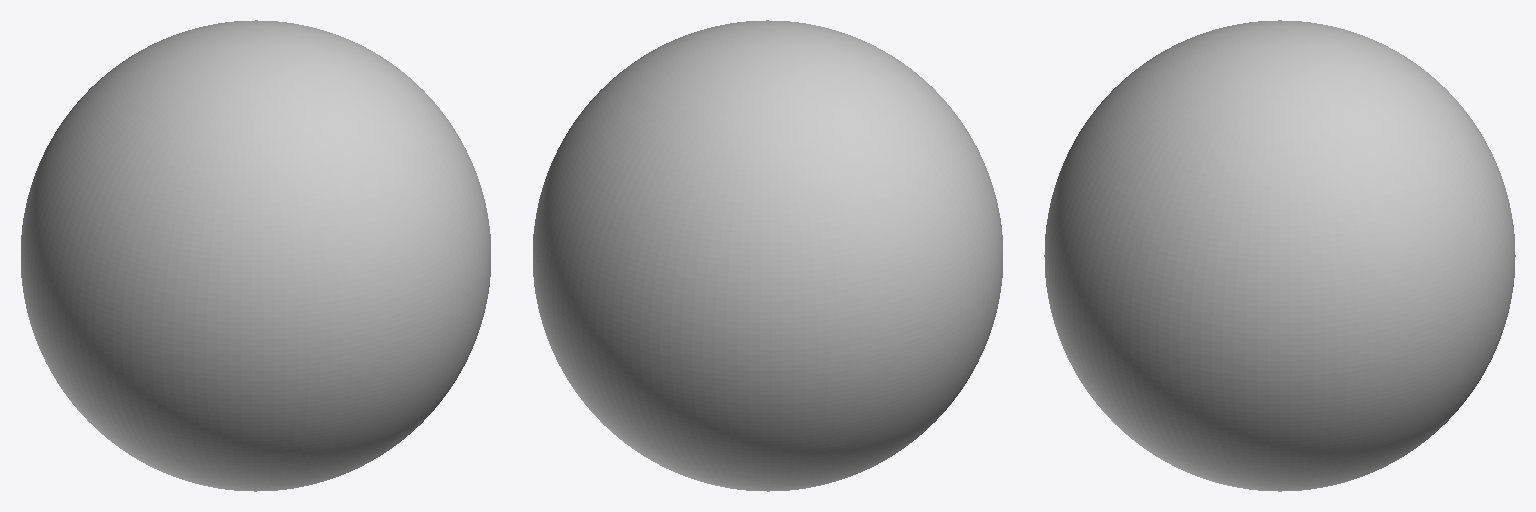
File: earth.obj
3 renders of one model, left to right at view 1: azimuth 30°, elevation 25°; view 2: azimuth 150°, elevation 25°; view 3: azimuth 270°, elevation 25°, orthographic.
Visible parts, largest first — view 1: Sphere; view 2: Sphere; view 3: Sphere.
Part boxes in pixels (x1,y1,x2,y2): Sphere: (21,20,490,491); Sphere: (533,20,1002,491); Sphere: (1044,20,1515,491).
Bounding box in the file's own units: 2 × 2 × 2.